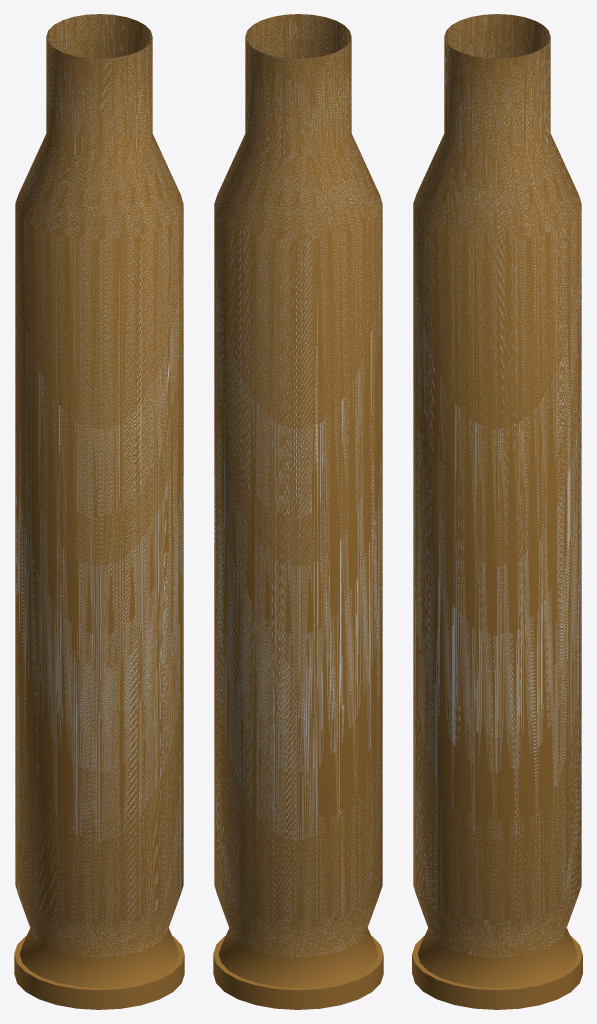
File: 223_cal_bullet.dae
The picture shows the model from 3 angles, left to right: view 1: azimuth 30°, elevation 25°; view 2: azimuth 150°, elevation 25°; view 3: azimuth 270°, elevation 25°; orthographic projection.
Parts seen in each view (by area): view 1: Component_215 (×3); view 2: Component_215 (×3); view 3: Component_215 (×3).
Part boxes in pixels (<box>): Component_215 (×3): <box>14,14,184,1009</box>; Component_215 (×3): <box>213,14,383,1009</box>; Component_215 (×3): <box>412,14,582,1009</box>.
Size of the model in its own units: 0.322 by 0.3224 by 1.95.
